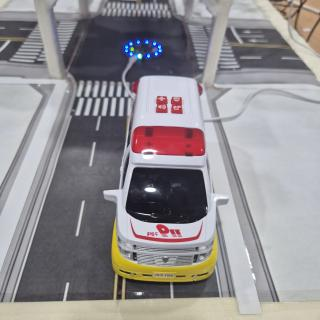Ambulance: (103, 76, 229, 282)
